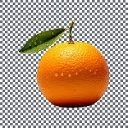orange: (34, 32, 109, 107)
